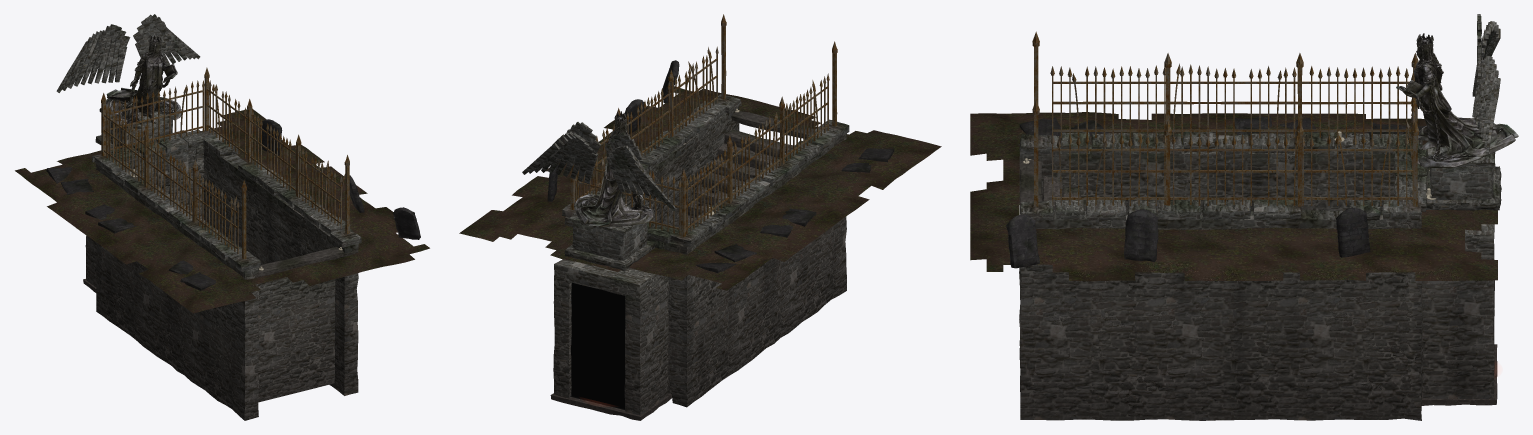
Rendered from hellgate_crypt_a.glb.
The picture shows the model from 3 angles, left to right: view 1: azimuth 30°, elevation 25°; view 2: azimuth 150°, elevation 25°; view 3: azimuth 270°, elevation 25°; orthographic projection. The views are drawn at different scales.
Parts seen in each view (by area): view 1: ground, pit_wall_l, pit_wall_r, iron, stairs, statue_angel_wings, pit_far, slabs, statue_angel, iron_r, iron_l, plinth (+2 smaller); view 2: ground, pit_wall_l, tunnel, iron, fx_void_a, pit_wall_r, statue_angel_wings, pit_far, stairs, plinth, slabs, statue_angel (+2 smaller); view 3: pit_wall_r, ground, pit_wall_l, iron, tunnel, slabs, statue_angel, iron_r, iron_l, plinth, pit_far, statue_angel_wings (+1 smaller).
Boxes of the visible parts, <box> form: ground: <box>15,109,429,313</box>; pit_wall_l: <box>91,151,358,420</box>; pit_wall_r: <box>201,129,361,395</box>; iron: <box>105,80,345,254</box>; stairs: <box>83,259,335,402</box>; statue_angel_wings: <box>56,14,200,92</box>; pit_far: <box>96,129,204,301</box>; slabs: <box>46,119,420,290</box>; statue_angel: <box>106,35,181,128</box>; iron_r: <box>204,67,349,233</box>; iron_l: <box>101,93,246,259</box>; plinth: <box>95,99,172,149</box>; ground: <box>459,86,941,290</box>; pit_wall_l: <box>670,111,849,407</box>; tunnel: <box>553,259,668,415</box>; iron: <box>575,46,829,234</box>; fx_void_a: <box>571,282,625,408</box>; pit_wall_r: <box>562,94,741,227</box>; statue_angel_wings: <box>522,122,676,210</box>; pit_far: <box>564,213,695,394</box>; stairs: <box>550,129,792,420</box>; plinth: <box>564,207,655,271</box>; slabs: <box>547,60,894,272</box>; statue_angel: <box>574,111,653,226</box>; pit_wall_r: <box>1019,197,1422,420</box>; ground: <box>970,112,1497,281</box>; pit_wall_l: <box>1019,132,1422,345</box>; iron: <box>1050,63,1415,205</box>; tunnel: <box>1422,224,1494,398</box>; slabs: <box>1006,116,1424,268</box>; statue_angel: <box>1396,33,1518,167</box>; iron_r: <box>1032,99,1418,206</box>; iron_l: <box>1032,31,1418,138</box>; plinth: <box>1426,134,1501,210</box>; pit_far: <box>1394,145,1427,408</box>; statue_angel_wings: <box>1472,14,1500,153</box>.
Bounding box in the file's own units: 6 × 5.95 × 8.32.
10 materials, 8 textured.
